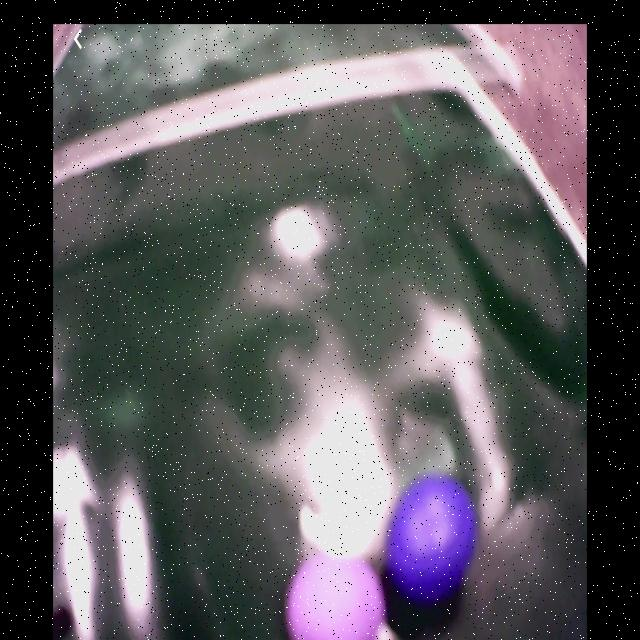ball: (387, 478, 474, 603), (287, 557, 385, 640)
